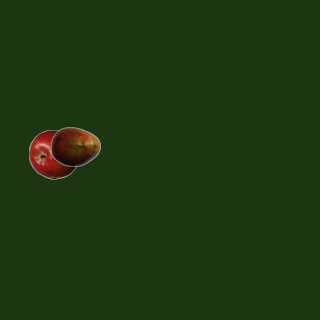Apple Braeburn: (28, 129, 78, 179)
Mango Red: (50, 121, 100, 171)
